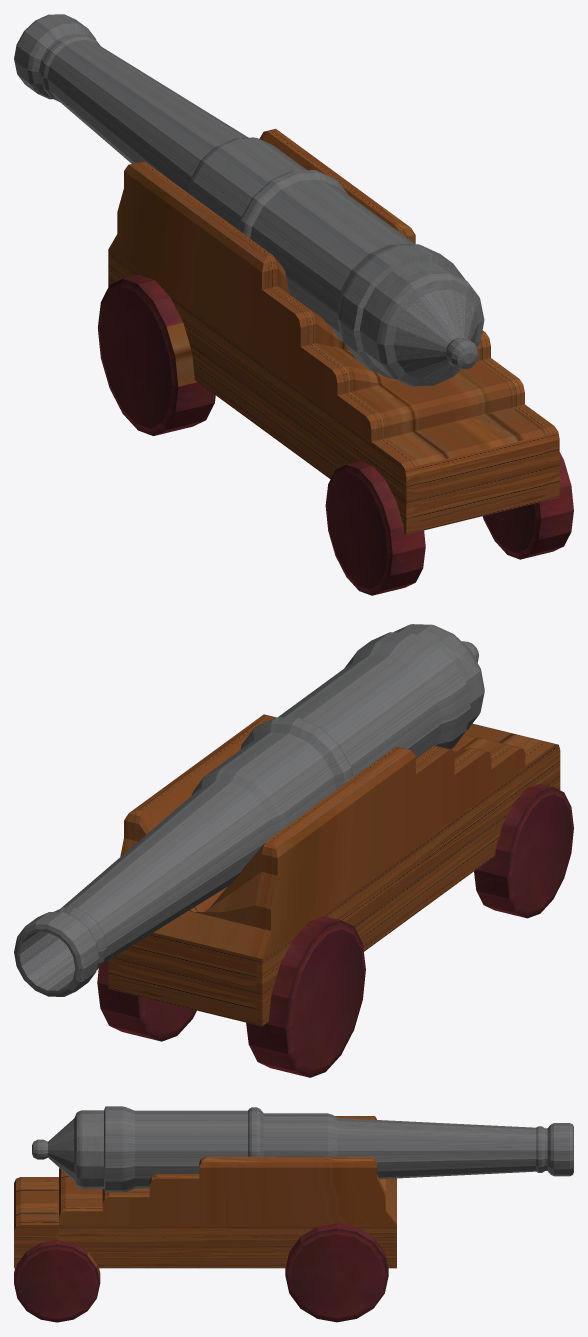
File: Cannon.fbx
The picture shows the model from 3 angles, top to bottom: view 1: azimuth 30°, elevation 25°; view 2: azimuth 150°, elevation 25°; view 3: azimuth 270°, elevation 25°; orthographic projection. The views are drawn at different scales.
Visible parts, largest first — view 1: Transporter, Canon; view 2: Transporter, Canon; view 3: Transporter, Canon.
Boxes of the visible parts, box(x1,y1,x2,y2) form: Transporter: box(98, 128, 573, 595); Canon: box(14, 14, 484, 386); Transporter: box(97, 714, 573, 1077); Canon: box(14, 624, 484, 996); Transporter: box(14, 1116, 396, 1322); Canon: box(32, 1106, 573, 1192).
Size of the model in its own units: 285 by 405 by 1120.
